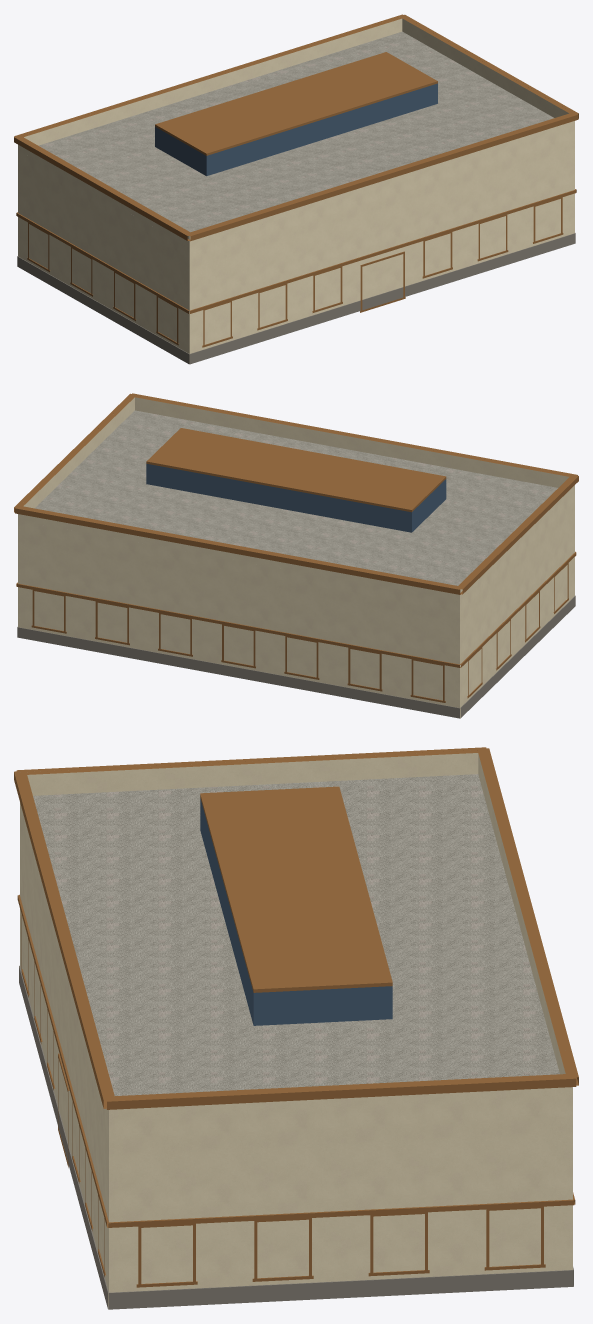
3 renders of one model, top to bottom at view 1: azimuth 30°, elevation 25°; view 2: azimuth 150°, elevation 25°; view 3: azimuth 270°, elevation 25°, orthographic. The views are drawn at different scales.
Parts seen in each view (by area): view 1: B-w1329606844_lejos, B-w1329606844_cubierta, B-w1329606844_molduras, B-w1329606844_remates, B-w1329606844_muros; view 2: B-w1329606844_lejos, B-w1329606844_cubierta, B-w1329606844_remates, B-w1329606844_molduras, B-w1329606844_muros; view 3: B-w1329606844_cubierta, B-w1329606844_lejos, B-w1329606844_remates, B-w1329606844_molduras, B-w1329606844_muros.
Boxes of the visible parts, x1,y1,x2,y2 form: B-w1329606844_lejos: [18, 127, 574, 348]; B-w1329606844_cubierta: [18, 16, 574, 234]; B-w1329606844_molduras: [14, 14, 578, 364]; B-w1329606844_remates: [155, 52, 437, 176]; B-w1329606844_muros: [18, 121, 574, 363]; B-w1329606844_lejos: [18, 506, 566, 717]; B-w1329606844_cubierta: [18, 395, 574, 587]; B-w1329606844_remates: [146, 428, 446, 532]; B-w1329606844_molduras: [14, 393, 578, 718]; B-w1329606844_muros: [18, 485, 574, 707]; B-w1329606844_cubierta: [20, 750, 572, 1099]; B-w1329606844_lejos: [23, 816, 572, 1306]; B-w1329606844_remates: [200, 786, 392, 1025]; B-w1329606844_molduras: [14, 747, 578, 1309]; B-w1329606844_muros: [20, 802, 572, 1292].
Size of the model in its own units: 32.21 by 10.57 by 21.7.
Materials: 7 (3 with a texture image).
